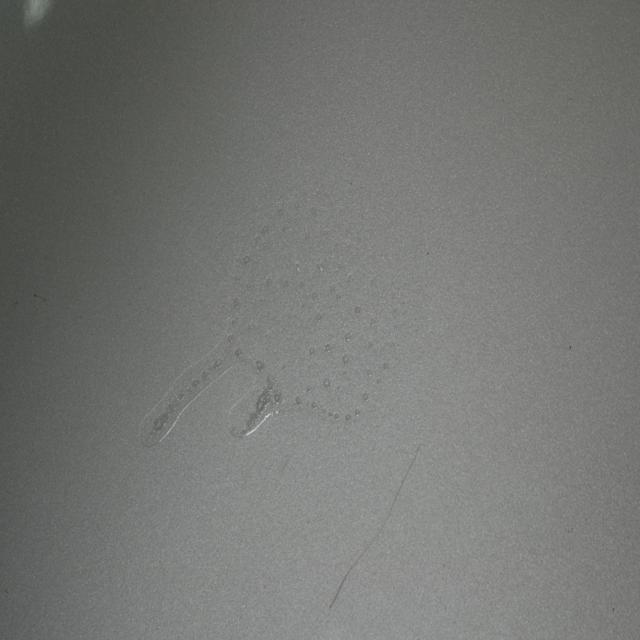dirt: (426, 250, 432, 259), (569, 342, 573, 353)
runs: (134, 188, 418, 449)
scratch: (323, 435, 425, 618)
